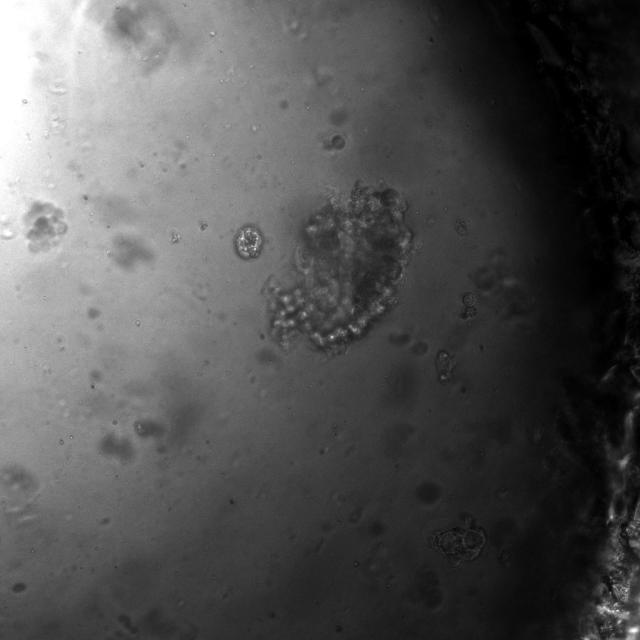organoid: (263, 177, 412, 355), (25, 202, 68, 252), (234, 225, 263, 259), (319, 133, 346, 152)
